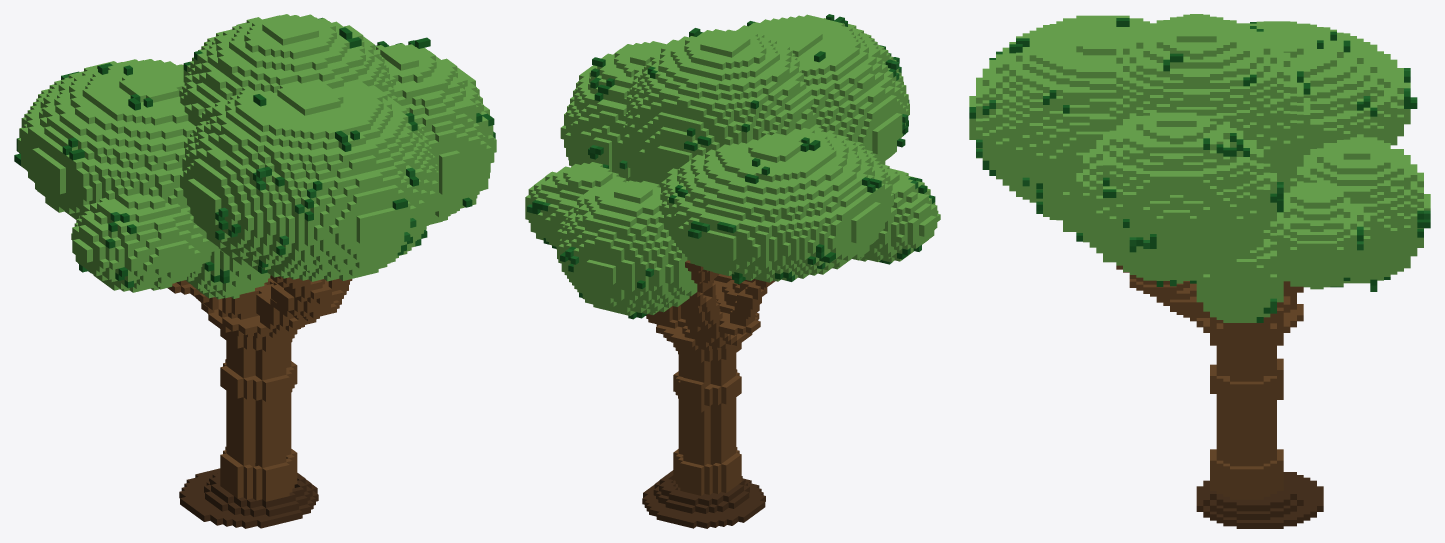
Rendered from 1_0 caja.obj.
3 renders of one model, left to right at view 1: azimuth 30°, elevation 25°; view 2: azimuth 150°, elevation 25°; view 3: azimuth 270°, elevation 25°, orthographic. The views are drawn at different scales.
Bounding box in the file's own units: 6.6 × 7.9 × 6.9.
Materials: 1 (1 with a texture image).
